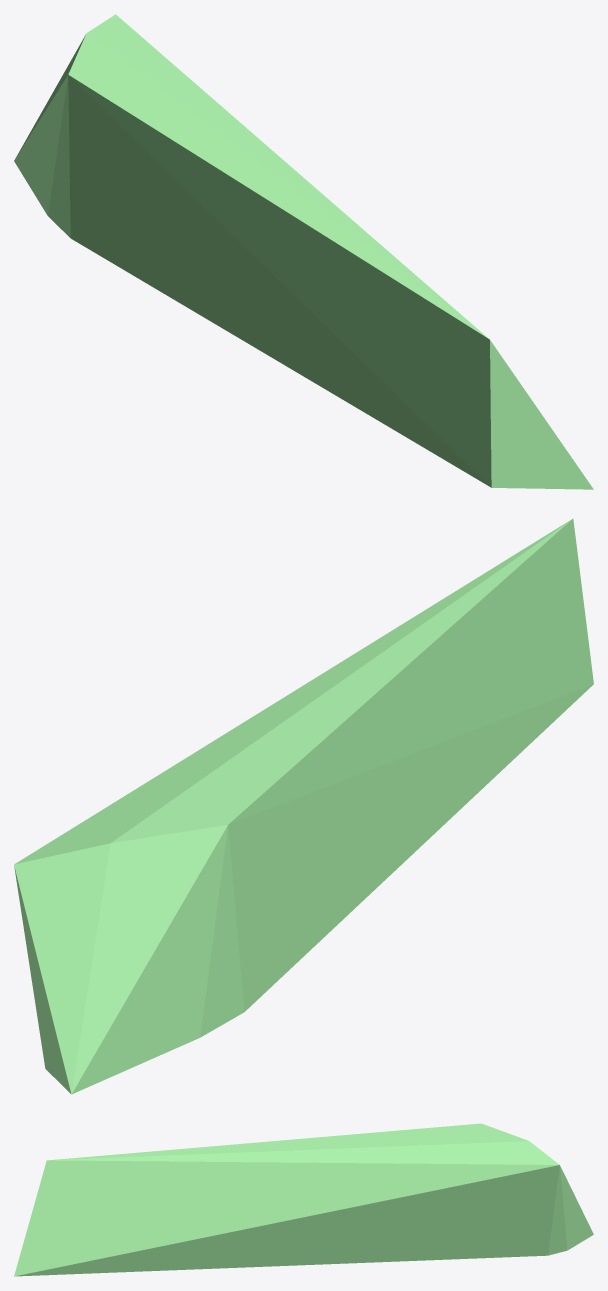
File: UMIRobot_UMIRobot_link_3_convex_coll_24.dae
The picture shows the model from 3 angles, top to bottom: view 1: azimuth 30°, elevation 25°; view 2: azimuth 150°, elevation 25°; view 3: azimuth 270°, elevation 25°; orthographic projection. The views are drawn at different scales.
Parts seen in each view (by area): view 1: node; view 2: node; view 3: node.
Boxes of the visible parts, x1,y1,x2,y2 form: node: (14,14,593,489); node: (14,518,593,1094); node: (14,1123,593,1276).
Size of the model in its own units: 0.00986 by 0.0107 by 0.0521.
